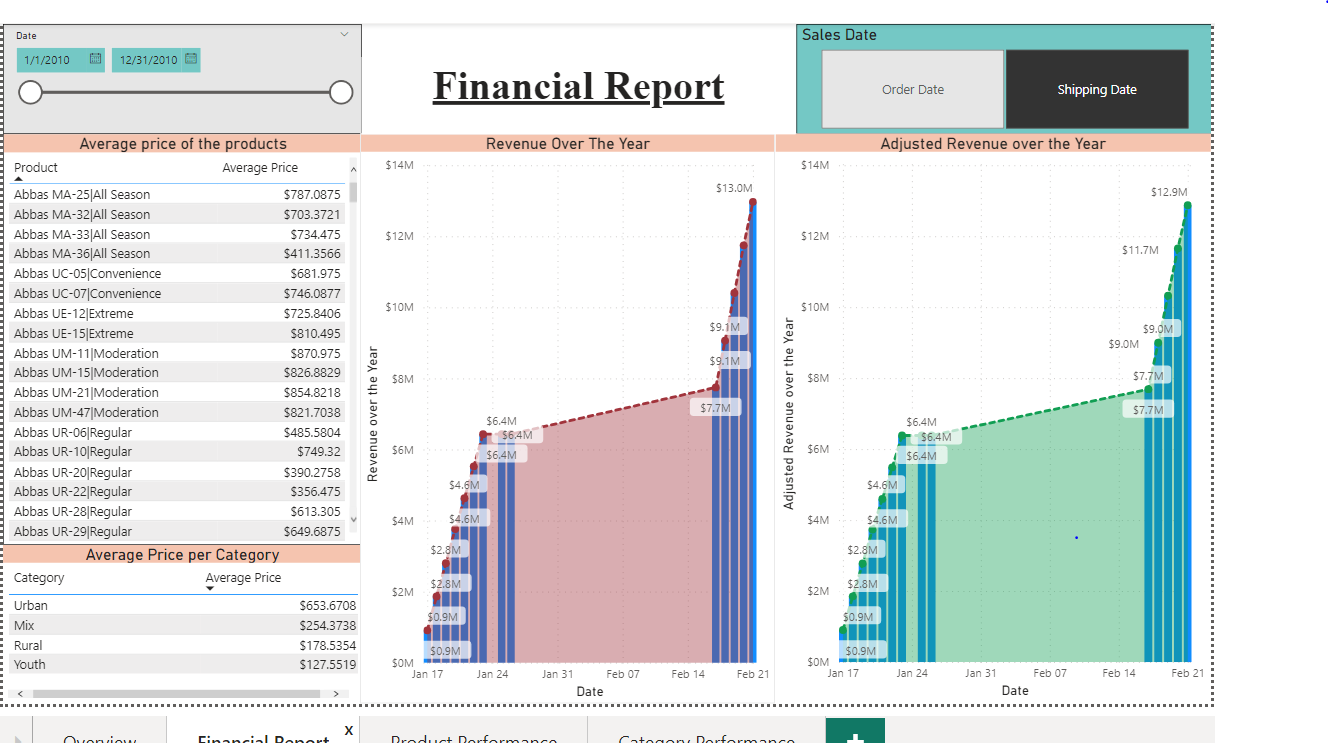

The page's visual inventory and layout, read from the dashboard file:
{"tool":"powerbi","page":{"name":"Financial Report","canvas":[1280,720],"ordinal":1},"visuals":[{"type":"slicer","title":"Sales Date","fields":{"Values":["Date_Parameter.Column"]},"box":[840,0,440,116.7],"z":0},{"type":"slicer","fields":{"Values":["Calendar.Date"]},"box":[0,0,380,116.7],"z":1000},{"type":"tableEx","title":"Average Price per Category","fields":{"Values":["Product_Table.Category","Sales_Data.Average_Price_per_Product_Category"]},"box":[0,551.8,380.4,167.9],"z":2000},{"type":"tableEx","title":"Average price of the products","fields":{"Values":["Product_Table.Product","Sales_Data.adjusted_revenue_per_order_date"]},"box":[0,116.1,380.4,435.7],"z":3000},{"type":"lineStackedColumnComboChart","title":"Revenue Over The Year","fields":{"Category":["Calendar.Date"],"Y2":["Sales_Data.test_RevenueOverTheYear"],"Y":["Sales_Data.test_RevenueOverTheYear"]},"box":[380.4,116.1,439.3,603.6],"z":4000},{"type":"lineClusteredColumnComboChart","title":"Adjusted Revenue over the Year","fields":{"Category":["Calendar.Date"],"Y":["Sales_Data.test_AdjustedRevenueOverTheYear"],"Y2":["Sales_Data.test_AdjustedRevenueOverTheYear"]},"box":[818.7,116.3,461,603.2],"z":5000},{"type":"textbox","box":[380,35,460,81.7],"z":6000}]}

Visuals, with their boxes on the page's 1280x720 design canvas (x1, y1, x2, y2). These are canvas units, not pixel positions in the 1328x743 screenshot, which may show the page scaled, cropped or inside an application window:
"Sales Date" slicer: select_region(840, 0, 1280, 117)
slicer - Calendar.Date: select_region(0, 0, 380, 117)
"Average Price per Category" tableEx: select_region(0, 552, 380, 720)
"Average price of the products" tableEx: select_region(0, 116, 380, 552)
"Revenue Over The Year" lineStackedColumnComboChart: select_region(380, 116, 820, 720)
"Adjusted Revenue over the Year" lineClusteredColumnComboChart: select_region(819, 116, 1280, 720)
textbox: select_region(380, 35, 840, 117)
